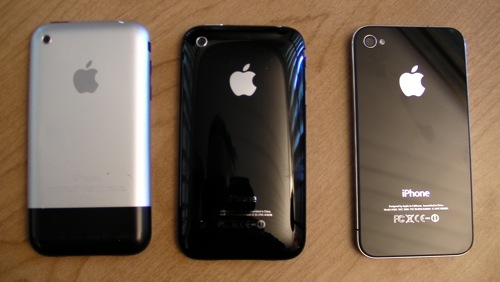apple: (222, 57, 265, 104), (62, 54, 98, 103), (395, 59, 431, 107)
